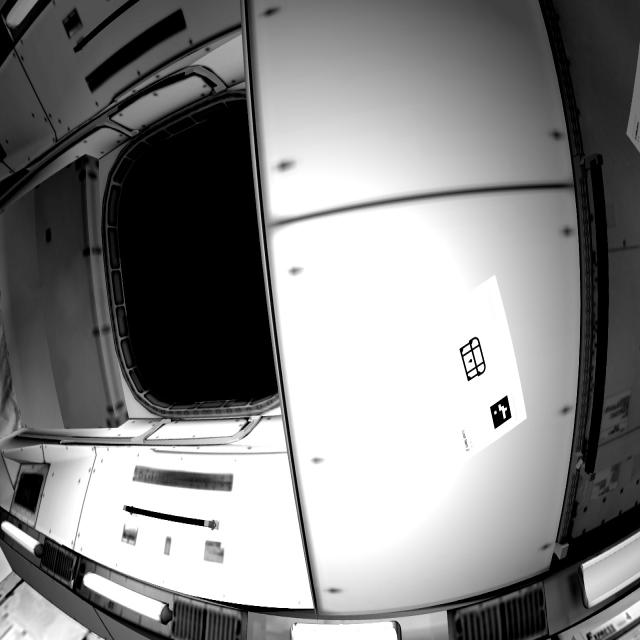treasure_box: (454, 335, 499, 390)
